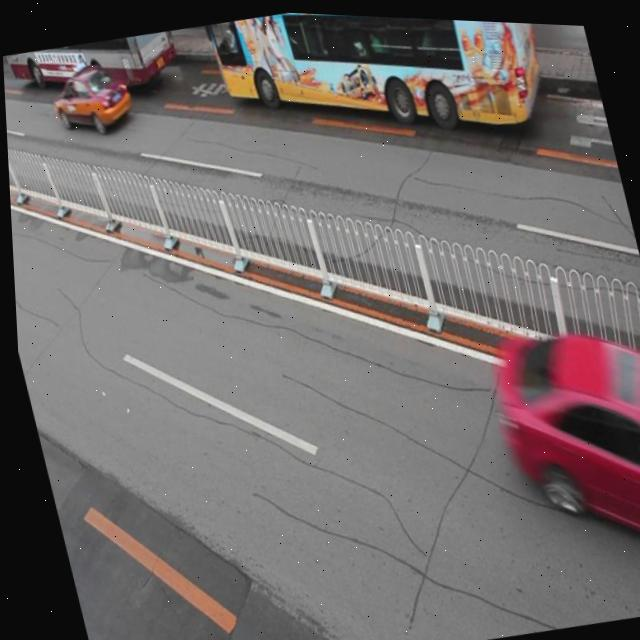car: (484, 302, 640, 591), (46, 53, 137, 139)
van: (204, 7, 558, 174), (2, 23, 183, 110)
